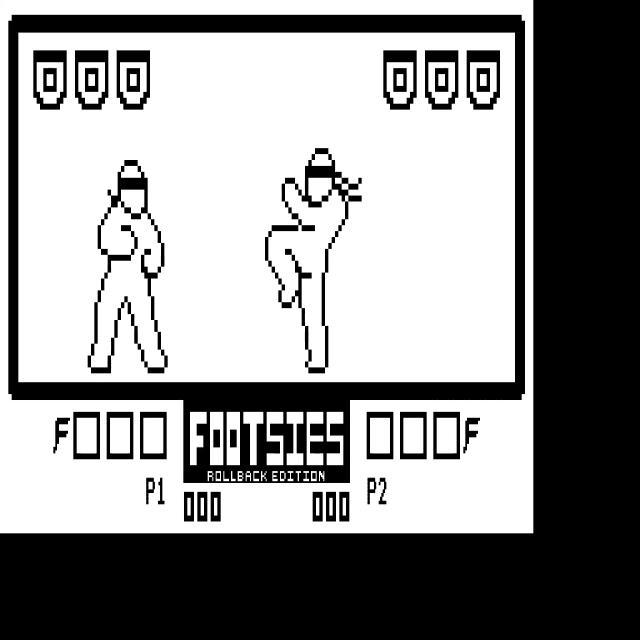Idle: (86, 151, 168, 376)
Knee: (256, 147, 362, 374)
